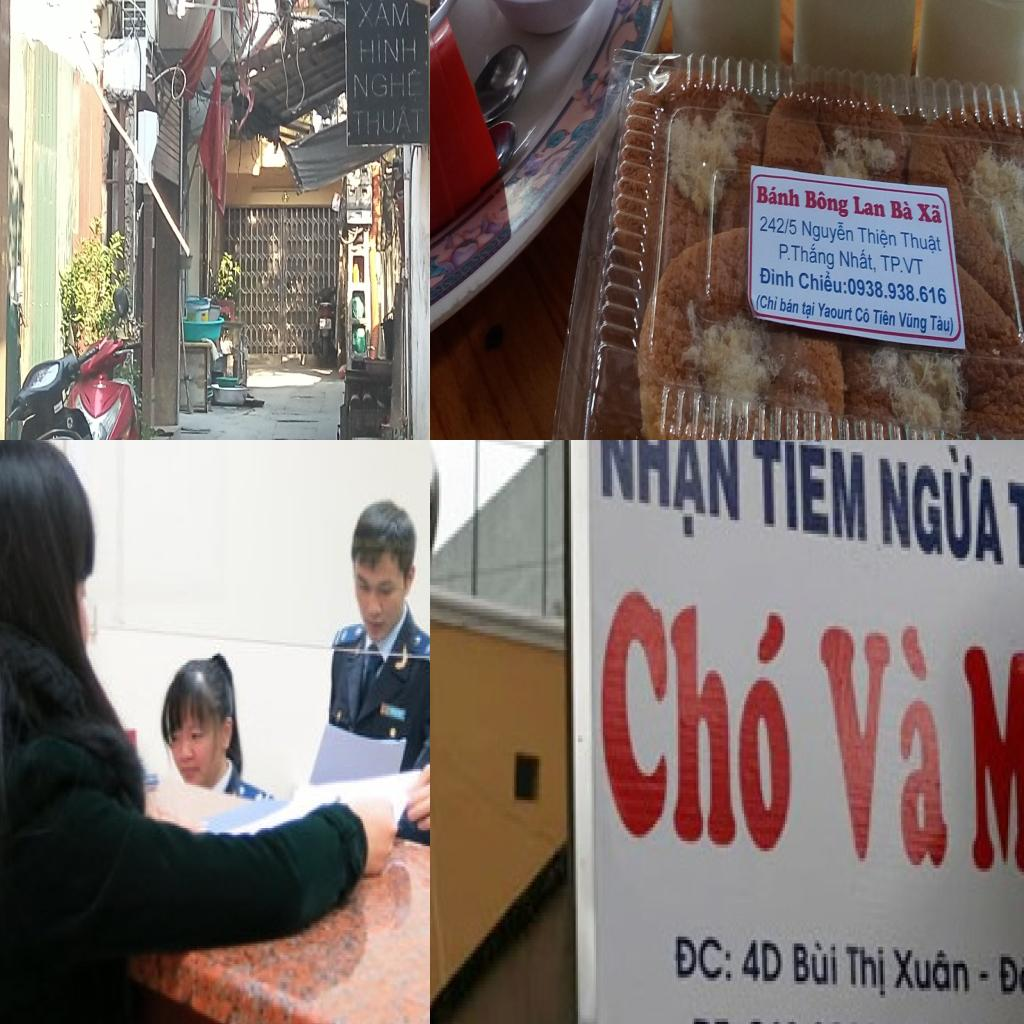text: (598, 589, 796, 858), (814, 626, 954, 879), (878, 440, 1007, 571), (962, 636, 1024, 888), (600, 440, 741, 547), (753, 440, 869, 547), (892, 947, 974, 995), (674, 936, 737, 988), (350, 64, 422, 106), (844, 943, 890, 1005), (792, 937, 842, 991), (848, 279, 947, 306), (737, 940, 785, 991), (354, 28, 418, 66), (778, 238, 834, 273), (354, 0, 412, 30), (801, 215, 855, 247), (798, 268, 847, 295), (804, 190, 849, 218), (999, 953, 1024, 1001), (839, 246, 877, 275), (900, 231, 943, 256), (756, 185, 801, 207), (856, 226, 897, 250), (880, 254, 924, 276), (852, 196, 887, 218), (759, 215, 797, 235), (760, 266, 794, 287), (818, 302, 853, 322), (898, 310, 927, 334), (691, 1011, 739, 1024), (889, 199, 914, 221), (754, 294, 779, 316), (917, 203, 943, 224), (872, 310, 896, 326), (779, 296, 799, 314), (800, 300, 816, 322), (854, 306, 870, 322), (978, 971, 990, 981)
